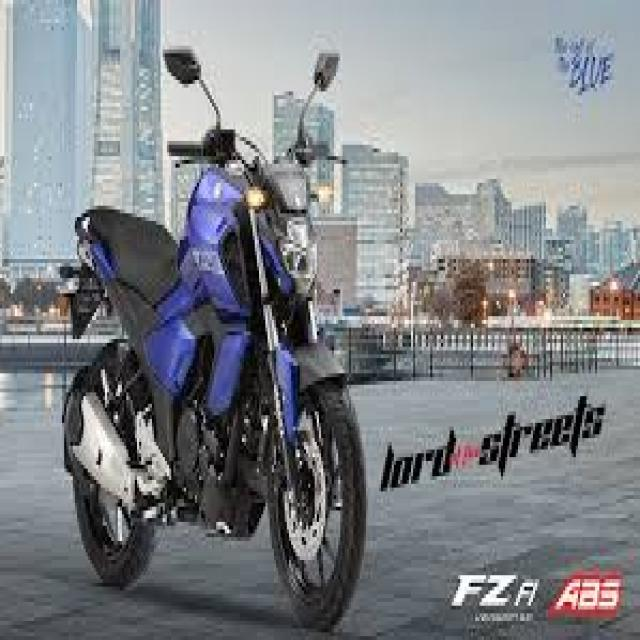bike: (60, 48, 366, 630)
